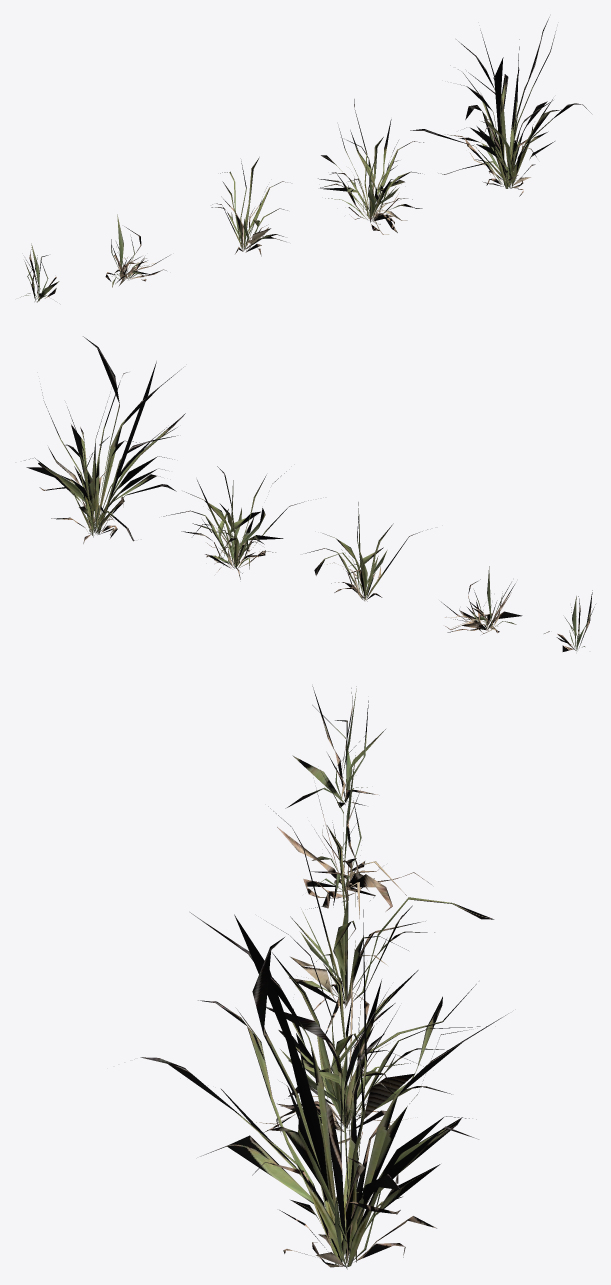
File: grass_medium_02.glb
3 renders of one model, top to bottom at view 1: azimuth 30°, elevation 25°; view 2: azimuth 150°, elevation 25°; view 3: azimuth 270°, elevation 25°, orthographic. The views are drawn at different scales.
Parts seen in each view (by area): view 1: grass_medium_02_a; view 2: grass_medium_02_a; view 3: grass_medium_02_a.
Boxes of the visible parts, x1=… form: grass_medium_02_a: x1=20, y1=17, x2=592, y2=302; grass_medium_02_a: x1=24, y1=336, x2=595, y2=651; grass_medium_02_a: x1=140, y1=686, x2=508, y2=1269.
Bounding box in the file's own units: 1.29 × 0.4039 × 0.4318.
Materials: 1 (1 with a texture image).
